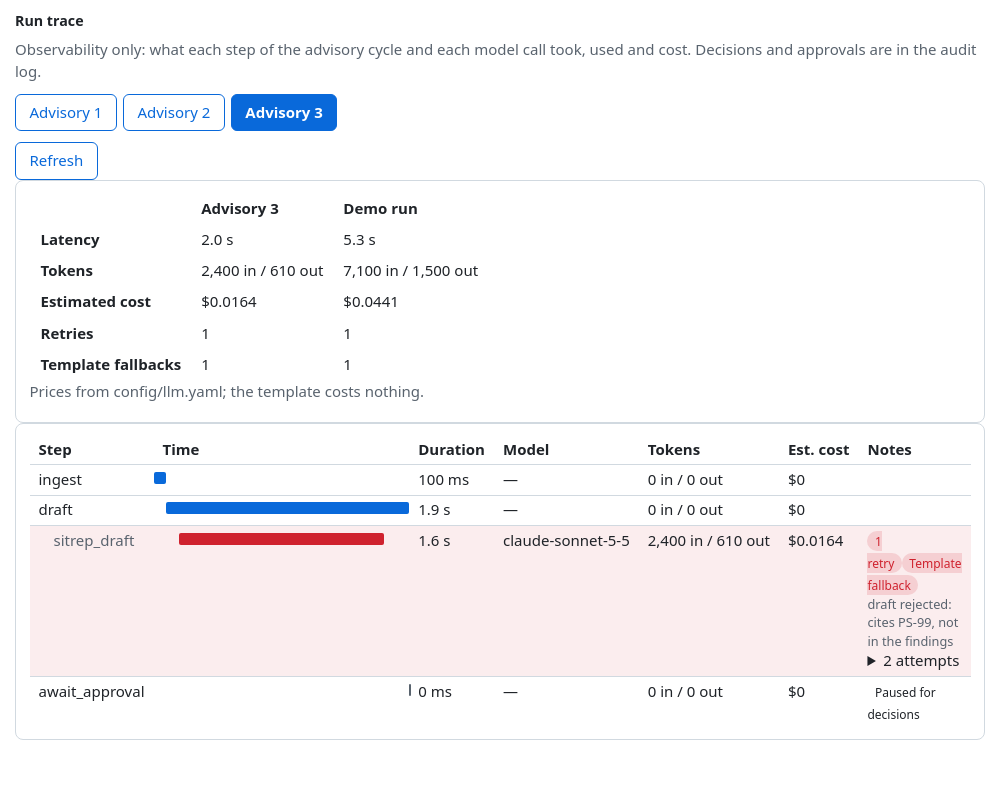
it: refresh loads the spans recorded since, such as a copilot turn
Check: the text "sitrep_draft" is shown, box [30,525,154,676]
Check: the text "copilot" is not shown
Click the button "Refresh" at (56, 161), box [15,142,98,180]
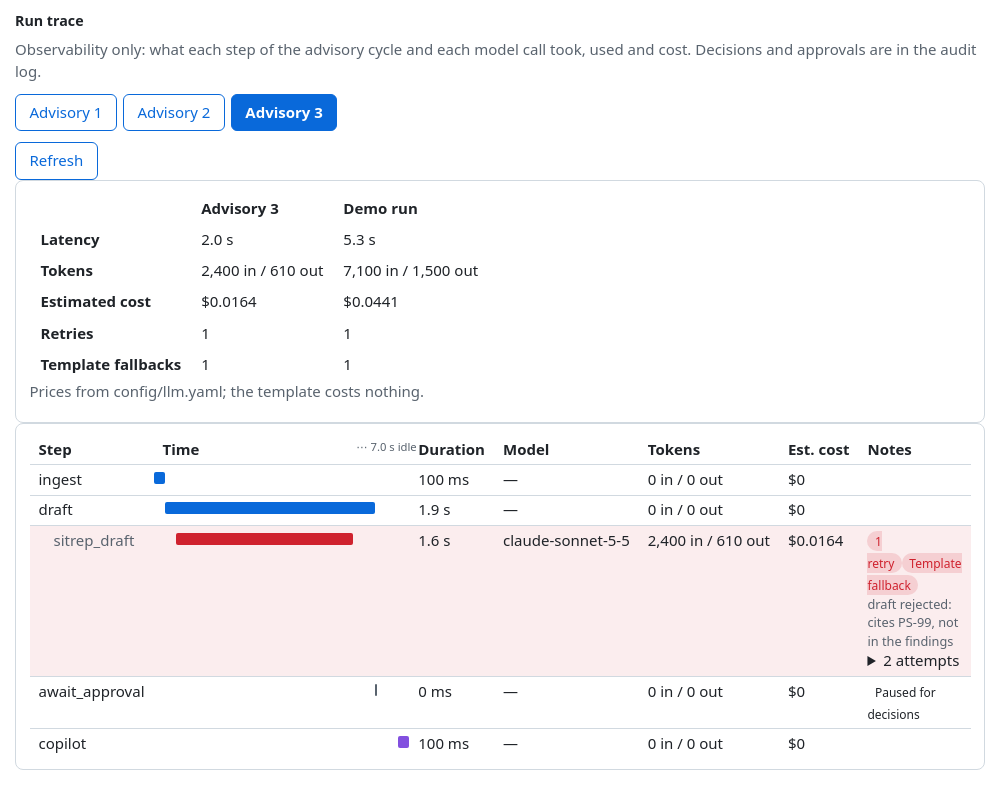
Check: the text "copilot" is shown, box [30,728,154,758]
